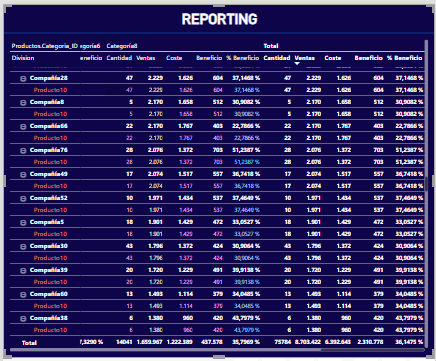

What the dashboard file says about the page in this screenshot:
{"tool":"powerbi","page":{"name":"Reporting","canvas":[1080,1920],"ordinal":2},"visuals":[{"type":"pivotTable","title":"REPORTING","fields":{"Columns":["Productos.Productos.Categoria_ID"],"Rows":["Clientes.Clientes.Division","Vendedores.Vendedores.Nombre","Clientes.Clientes.Nombre","Productos.Productos.Nombre"],"Values":["Medidas.Cantidad","Medidas.Ventas","Medidas.Coste","Medidas.Beneficio","Medidas.% Beneficio"]},"box":[0,0,1080,885],"z":0}]}

Visuals, with their boxes on the page's 1080x1920 design canvas (x1, y1, x2, y2). These are canvas units, not pixel positions in the 436x361 screenshot, which may show the page scaled, cropped or inside an application window:
"REPORTING" pivotTable: x1=0 y1=0 x2=1080 y2=885
